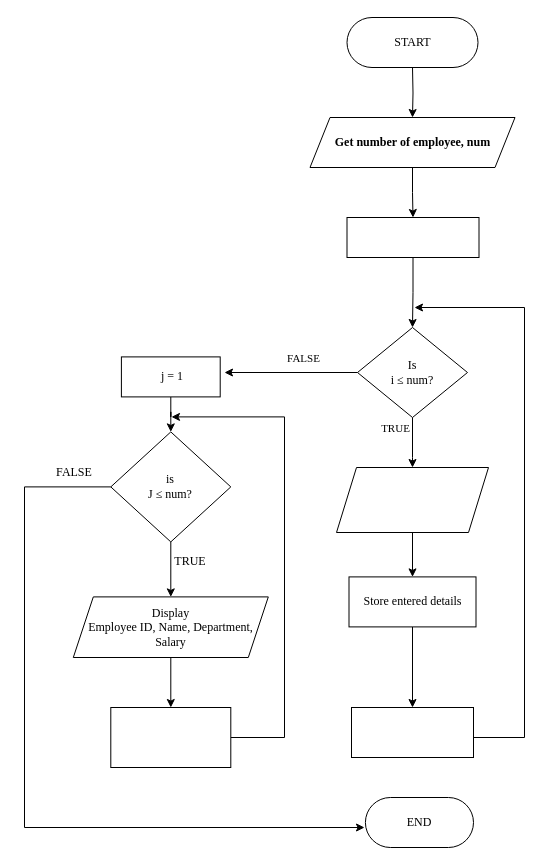
Image size: 550x865. Some labels were removed from this diagram. Here are the shapes that lost their labels. From the top down, the centre of each, then its label:
point 412,237: i = 1
point 412,499: Input Employee ID, Name, Department , Salary
point 170,737: Increment j = j + 1
point 412,732: i = i + 1
